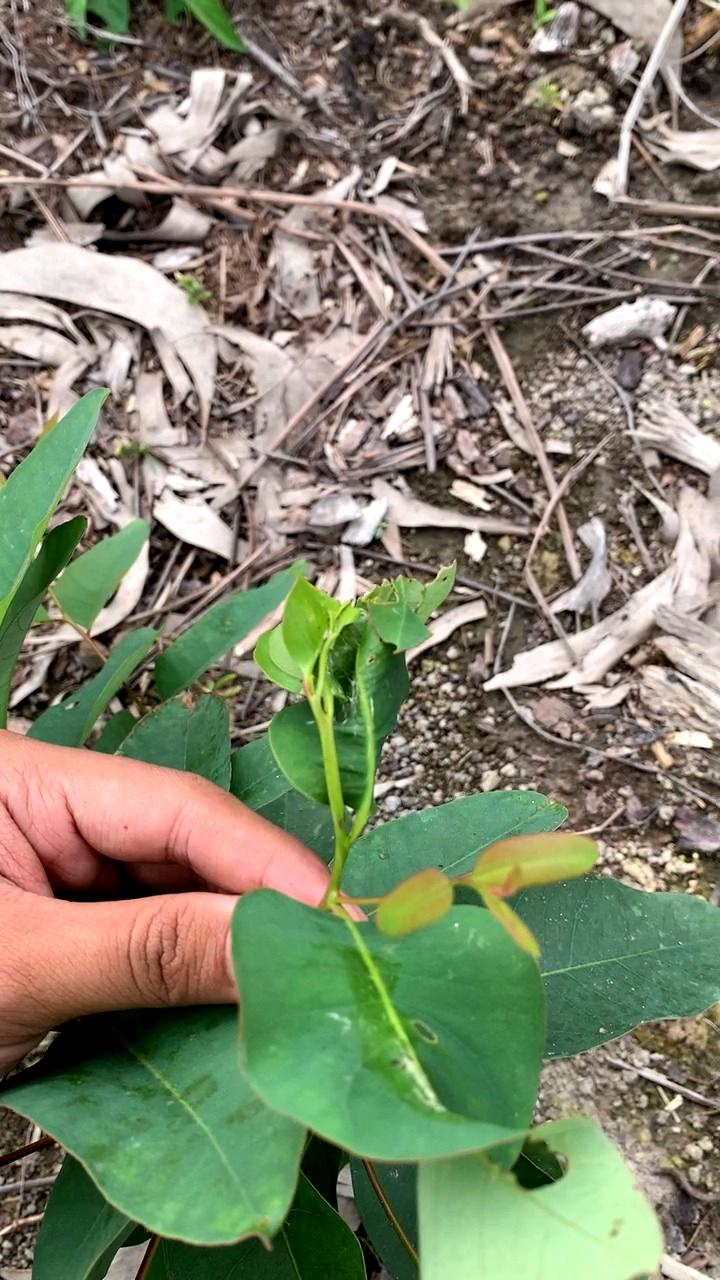Leaf Roller - Leaf: (261, 553, 480, 792)
